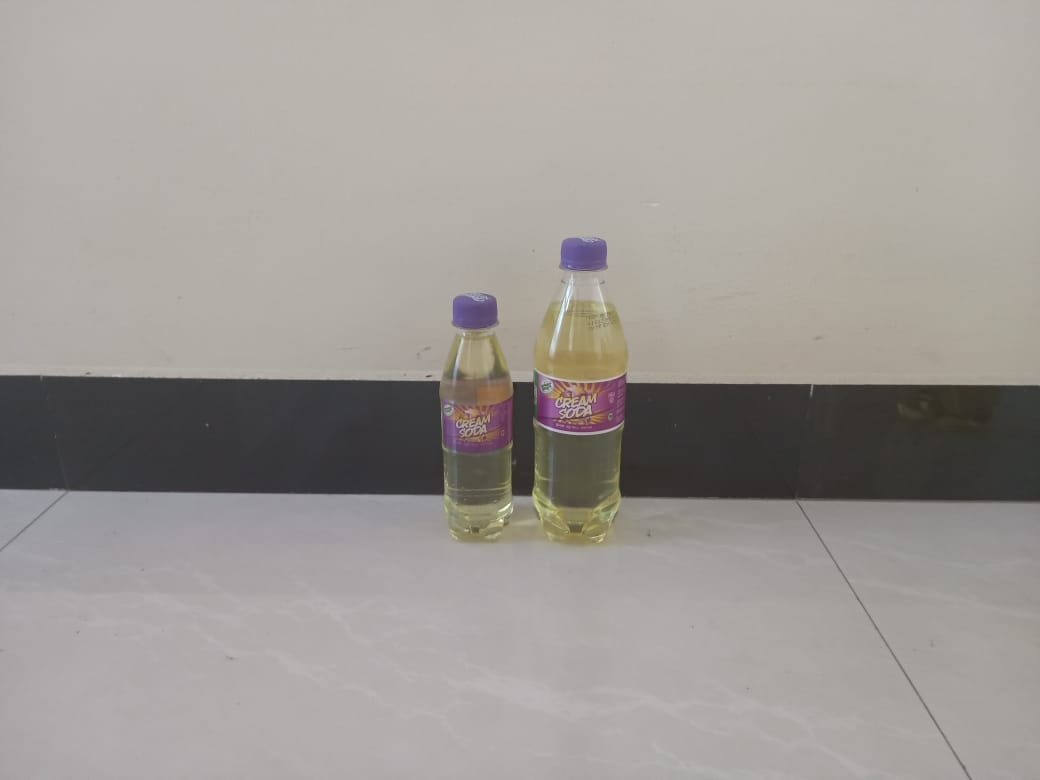S: (532, 239, 627, 545)
Xs: (436, 292, 516, 545)
